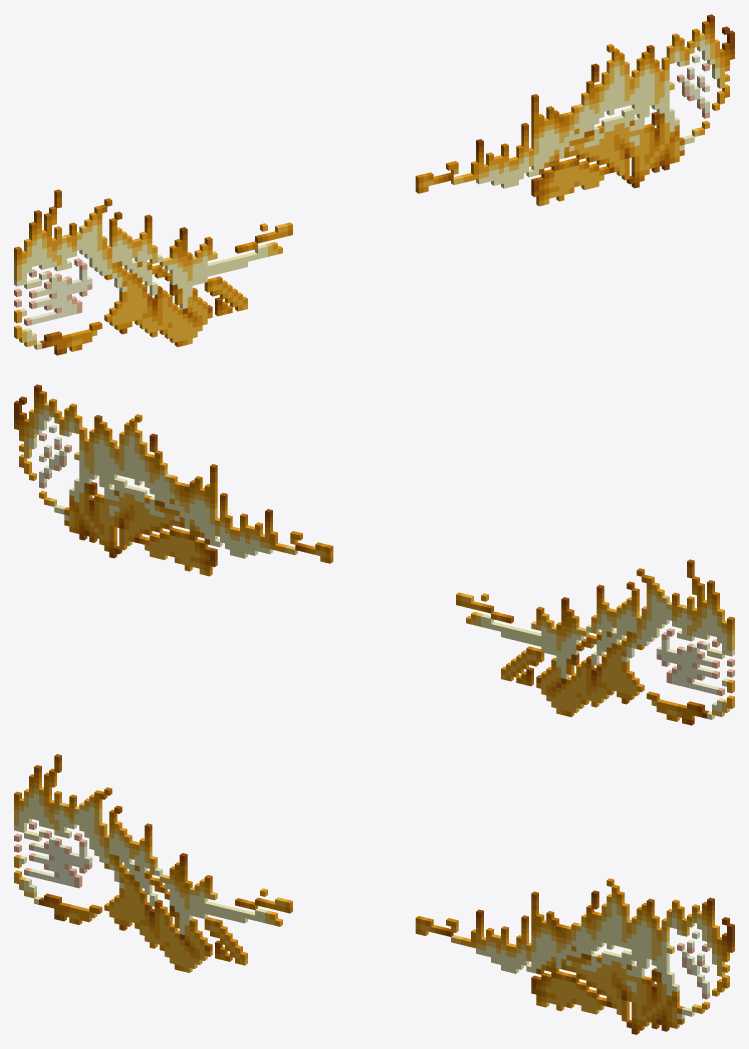
Rendered from Fight_756_2_04_fx.obj.
The picture shows the model from 3 angles, top to bottom: view 1: azimuth 30°, elevation 25°; view 2: azimuth 150°, elevation 25°; view 3: azimuth 330°, elevation 25°; orthographic projection.
Size of the model in its own units: 14.3 by 3.8 by 0.1.
1 material, 1 textured.
